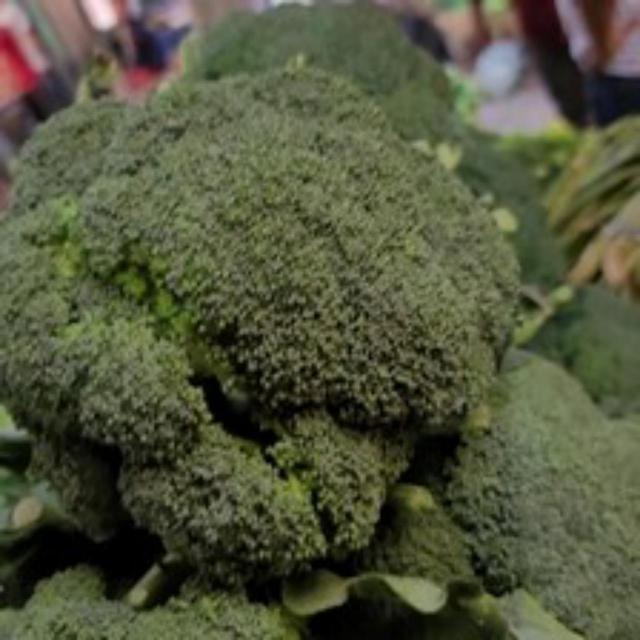broccoli: (3, 73, 514, 575)
